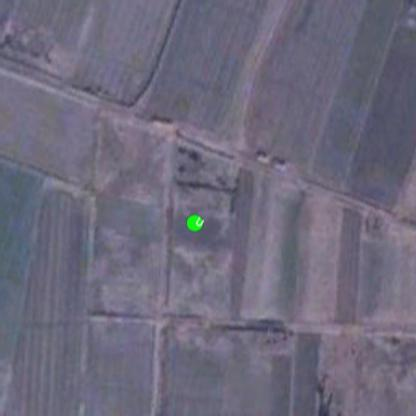U: (196, 217, 206, 228)
circle: (185, 214, 204, 233)
